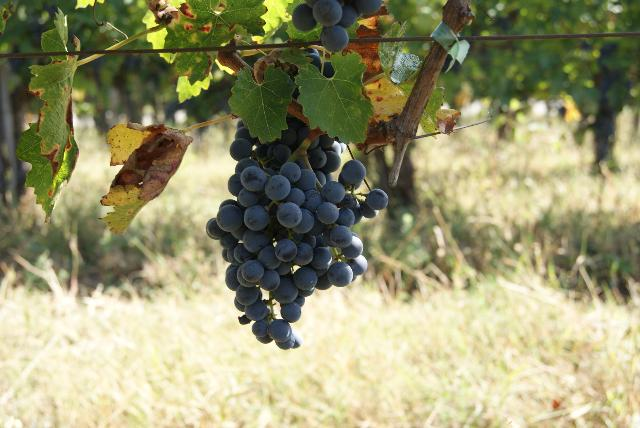grapes: (206, 158, 388, 350)
